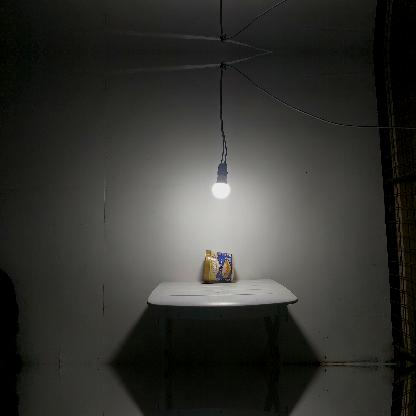Lady-s-Choice: (204, 248, 235, 282)
